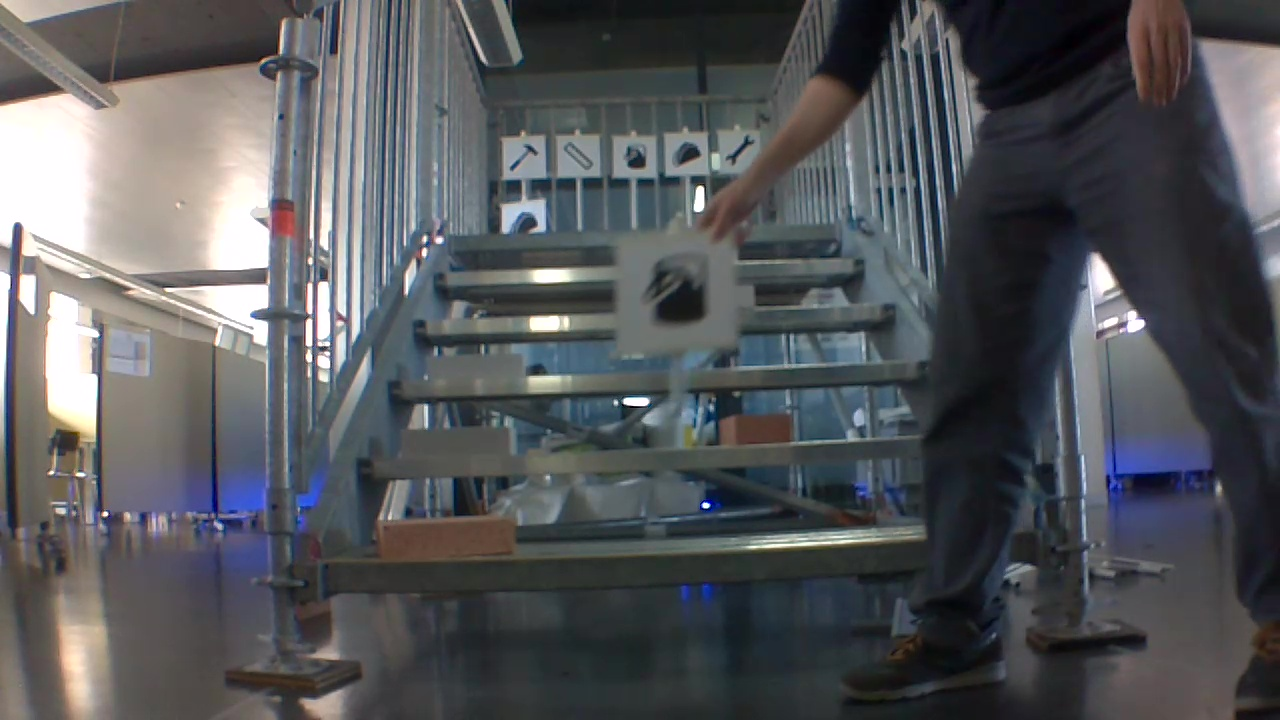brick: (377, 515, 513, 563), (403, 426, 512, 456), (427, 353, 525, 380), (719, 414, 792, 444)
bucket: (638, 248, 714, 325), (622, 140, 651, 172)
edge: (323, 531, 1039, 589), (391, 362, 931, 393)
hammer: (504, 141, 540, 174)
ruler: (560, 137, 594, 170)
taco: (669, 137, 702, 166), (505, 208, 538, 234)
wrench: (722, 131, 756, 167)
